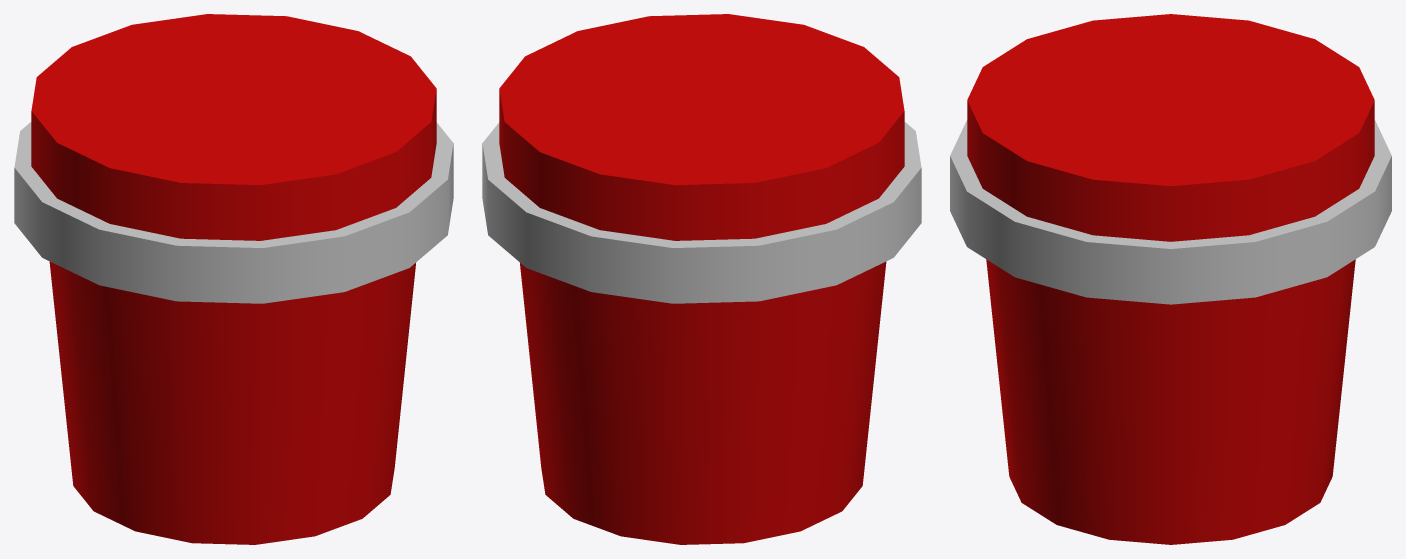
File: Paint.fbx
The picture shows the model from 3 angles, left to right: view 1: azimuth 30°, elevation 25°; view 2: azimuth 150°, elevation 25°; view 3: azimuth 270°, elevation 25°; orthographic projection.
Visible parts, largest first — view 1: pCylinder1; view 2: pCylinder1; view 3: pCylinder1.
Boxes of the visible parts, bbox=[...] form: pCylinder1: bbox=[14, 14, 453, 544]; pCylinder1: bbox=[482, 14, 921, 544]; pCylinder1: bbox=[950, 14, 1391, 544].
Bounding box in the file's own units: 0.2523 × 0.2373 × 0.2523.
